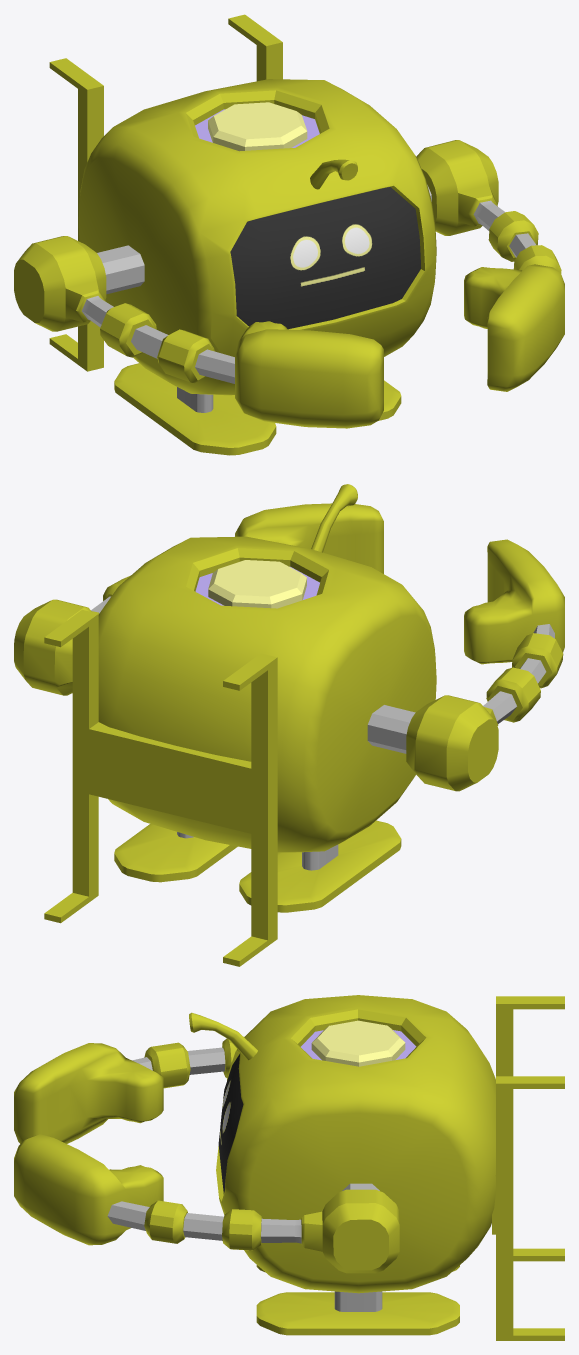
The model's file is Chara_02Y.fbx.
3 views of the same model, one above another, from view 1: azimuth 30°, elevation 25°; view 2: azimuth 150°, elevation 25°; view 3: azimuth 270°, elevation 25° (orthographic). The views are drawn at different scales.
Visible parts, largest first — view 1: Face, pCube48 (×2), R_Hand, L_Hand, R_Leg, pCube51, pCube50, pCube47, Horn; view 2: Face, pCube48 (×2), pCube52, pCube51, R_Hand, pCube50, R_Leg, L_Hand, L_Leg, pCube47, Horn; view 3: Face, pCube48 (×2), R_Hand, L_Hand, L_Leg, pCube50, pCube51, Horn.
Part boxes in pixels (x1,y1,x2,y2): Face: (78, 79, 436, 395); pCube48 (×2): (14, 140, 561, 383); R_Hand: (235, 321, 383, 428); L_Hand: (464, 264, 564, 391); R_Leg: (114, 363, 276, 455); pCube51: (49, 58, 103, 371); pCube50: (228, 14, 282, 81); pCube47: (97, 245, 144, 294); Horn: (310, 159, 357, 189); Face: (98, 536, 436, 852); pCube48 (×2): (14, 575, 563, 791); pCube52: (89, 722, 251, 833); pCube51: (223, 653, 277, 966); R_Hand: (464, 539, 564, 664); pCube50: (44, 609, 98, 923); R_Leg: (239, 820, 401, 912); L_Hand: (235, 503, 383, 573); L_Leg: (114, 824, 237, 882); pCube47: (367, 705, 415, 753); Horn: (311, 484, 357, 552); Face: (216, 995, 495, 1293); pCube48 (×2): (107, 1036, 399, 1273); R_Hand: (14, 1043, 163, 1143); L_Hand: (14, 1134, 163, 1245); L_Leg: (256, 1291, 459, 1335); pCube50: (496, 1076, 564, 1340); pCube51: (496, 996, 564, 1261); Horn: (189, 1012, 257, 1060).
Size of the model in its own units: 186 by 121 by 213.
